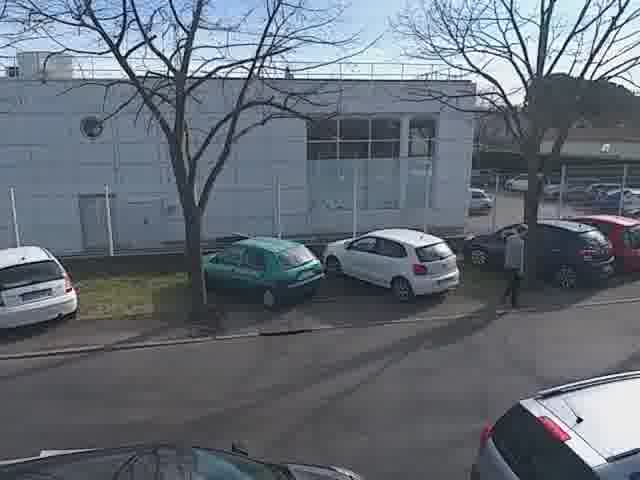persona: (484, 219, 531, 311)
